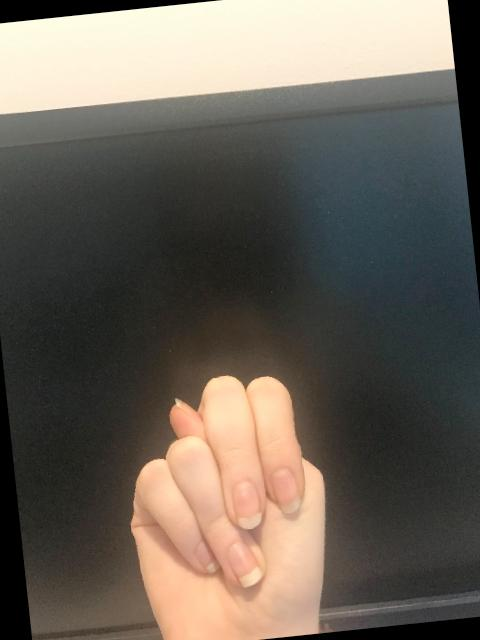N: (110, 359, 348, 640)
